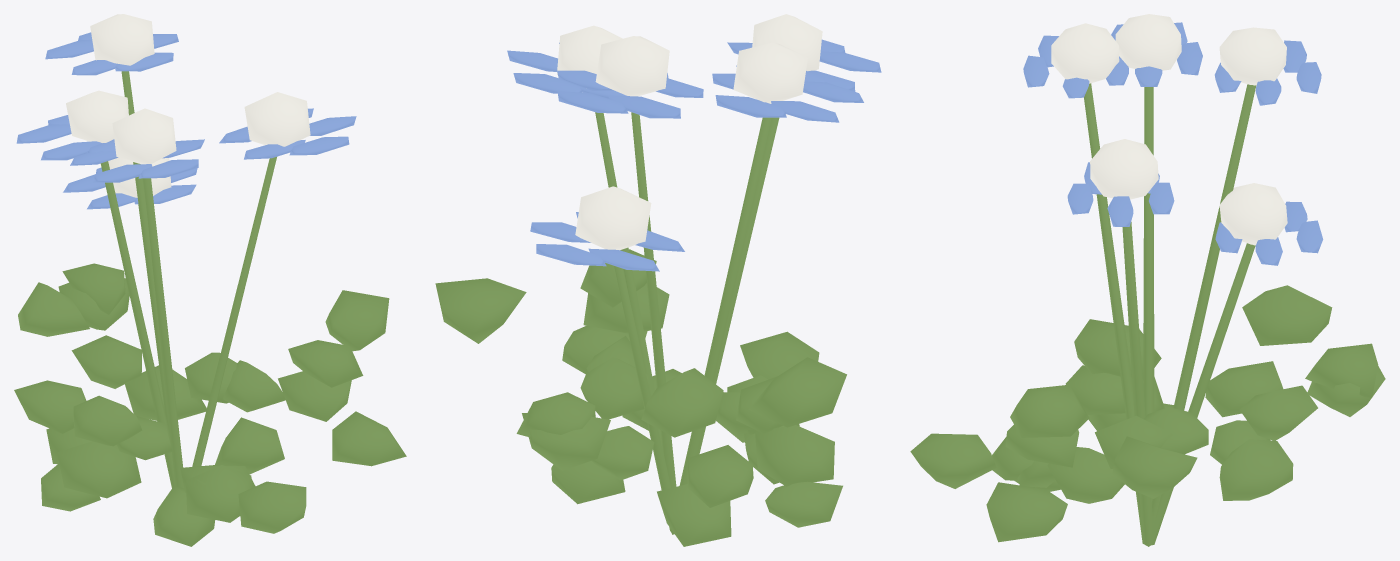
Rendered from Blender_Columbine_1.glb.
3 renders of one model, left to right at view 1: azimuth 30°, elevation 25°; view 2: azimuth 150°, elevation 25°; view 3: azimuth 270°, elevation 25°, orthographic. The views are drawn at different scales.
Parts seen in each view (by area): view 1: Blender_Columbine_1; view 2: Blender_Columbine_1; view 3: Blender_Columbine_1.
Part boxes in pixels (<box>): Blender_Columbine_1: <box>14,14,406,546</box>; Blender_Columbine_1: <box>435,14,881,546</box>; Blender_Columbine_1: <box>910,14,1385,546</box>.
Size of the model in its own units: 0.3002 by 0.3737 by 0.3148.
